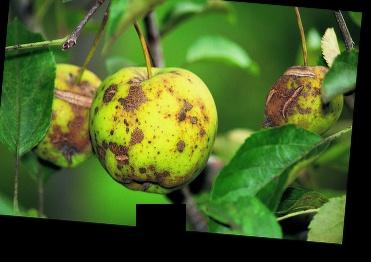rotten apple: (89, 65, 222, 196), (23, 59, 99, 170), (261, 64, 350, 140)
